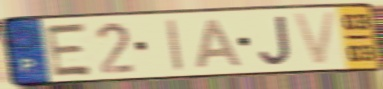2: (93, 20, 139, 76)
A: (193, 17, 245, 70)
E: (43, 21, 96, 79)
I: (164, 16, 186, 73)
J: (257, 14, 294, 67)
V: (290, 9, 339, 68)
